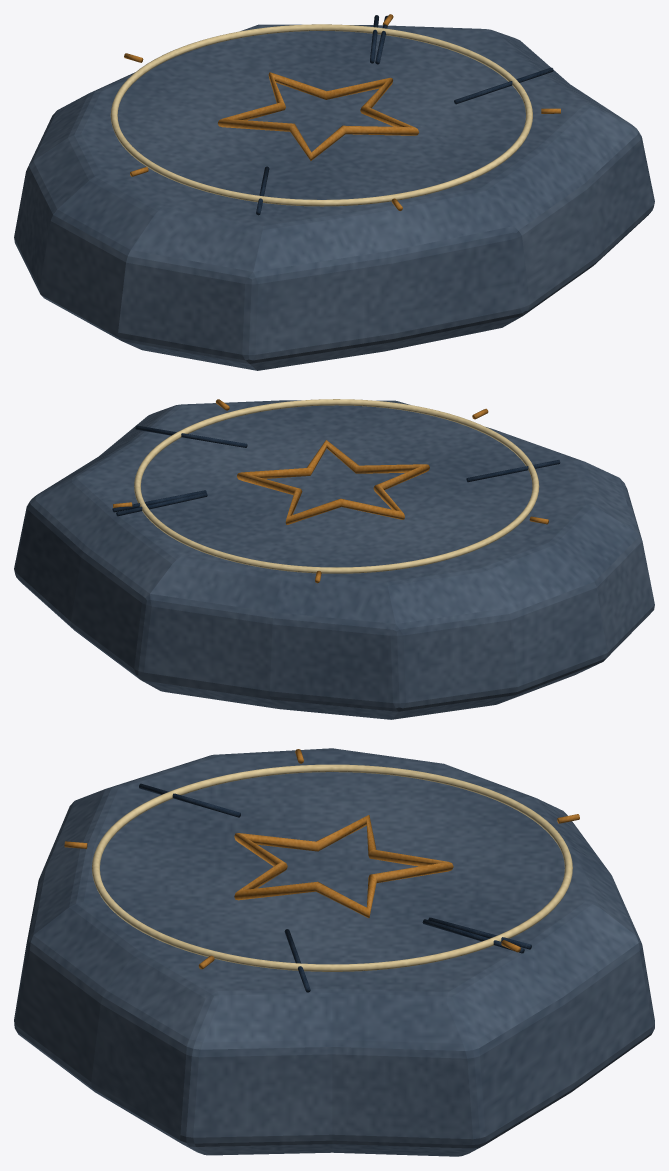
The model's file is ShadowStone2.fbx.
3 renders of one model, top to bottom at view 1: azimuth 30°, elevation 25°; view 2: azimuth 150°, elevation 25°; view 3: azimuth 270°, elevation 25°, orthographic. The views are drawn at different scales.
Visible parts, largest first — view 1: River stone.009, Weathered border.009, Inlaid wish sigil.015, Mineral seam.037; view 2: River stone.009, Weathered border.009, Inlaid wish sigil.015, Mineral seam.037; view 3: River stone.009, Weathered border.009, Inlaid wish sigil.015.
Part boxes in pixels (left/top/right/bottom): River stone.009: left=14, top=24, right=654, bottom=370; Weathered border.009: left=110, top=24, right=532, bottom=206; Inlaid wish sigil.015: left=217, top=72, right=419, bottom=160; Mineral seam.037: left=454, top=67, right=553, bottom=104; River stone.009: left=14, top=400, right=654, bottom=719; Weathered border.009: left=134, top=399, right=539, bottom=573; Inlaid wish sigil.015: left=237, top=440, right=429, bottom=524; Mineral seam.037: left=135, top=425, right=247, bottom=447; River stone.009: left=14, top=748, right=654, bottom=1156; Weathered border.009: left=92, top=764, right=572, bottom=971; Inlaid wish sigil.015: left=234, top=815, right=453, bottom=917.
Bounding box in the file's own units: 164 × 40.9 × 144.
4 materials, 4 textured.
